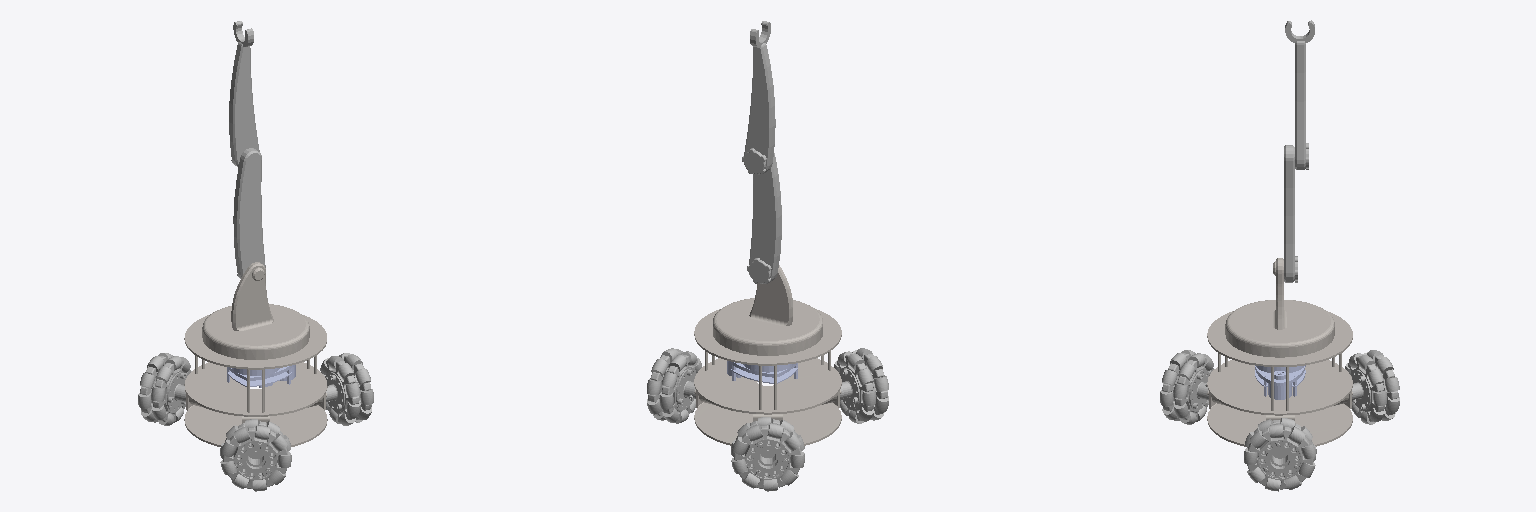
robot.urdf — mo_hinh_robot:
<?xml version="1.0" encoding="utf-8"?>
<!-- This URDF was automatically created by SolidWorks to URDF Exporter! Originally created by [author] ([email redacted]) 
  Commit Version: 1.6.0-1-g15f4949  Build Version: 1.6.7594.29634
  For more information, please see http://wiki.ros.org/sw_urdf_exporter -->
<robot
  name="mo_hinh_robot">
  <link
    name="base_link">
    <inertial>
   <origin
     xyz="-0.000110185966013022 -3.4221336087728E-06 0.0651865978110736"
     rpy="0 0 0" />
   <mass
     value="2.96390581559924" />
   <inertia
     ixx="0.00742546634157697"
     ixy="4.49220991340701E-08"
     ixz="1.3076566436296E-05"
     iyy="0.00743730950356191"
     iyz="8.54733585689313E-07"
     izz="0.0139951764965784" />
    </inertial>
    <visual>
   <origin
     xyz="0 0 0"
     rpy="0 0 0" />
   <geometry>
     <mesh
    filename="package://mo_hinh_robot/meshes/base_link.STL" />
   </geometry>
   <material
     name="">
     <color
    rgba="0.776470588235294 0.756862745098039 0.737254901960784 1" />
   </material>
    </visual>
    <collision>
   <origin
     xyz="0 0 0"
     rpy="0 0 0" />
   <geometry>
     <mesh
    filename="package://mo_hinh_robot/meshes/base_link.STL" />
   </geometry>
    </collision>
  </link>
  <link
    name="lidar_link">
    <inertial>
   <origin
     xyz="0.00676653011666337 -0.000207827566854595 -0.0224318722671681"
     rpy="0 0 0" />
   <mass
     value="1.33076913637071" />
   <inertia
     ixx="0.000614917940454093"
     ixy="-8.01984318980471E-07"
     ixz="0.000158243025911173"
     iyy="0.000960697335617201"
     iyz="-3.09162986587554E-06"
     izz="0.00109815200027134" />
    </inertial>
    <visual>
   <origin
     xyz="0 0 0"
     rpy="0 0 0" />
   <geometry>
     <mesh
    filename="package://mo_hinh_robot/meshes/lidar_link.STL" />
   </geometry>
   <material
     name="">
     <color
    rgba="0.792156862745098 0.819607843137255 0.933333333333333 1" />
   </material>
    </visual>
    <collision>
   <origin
     xyz="0 0 0"
     rpy="0 0 0" />
   <geometry>
     <mesh
    filename="package://mo_hinh_robot/meshes/lidar_link.STL" />
   </geometry>
    </collision>
  </link>
  <joint
    name="lidar_joint"
    type="fixed">
    <origin
   xyz="0 0.000115901455767099 0.110703356935491"
   rpy="0 0 0" />
    <parent
   link="base_link" />
    <child
   link="lidar_link" />
    <axis
   xyz="0 0 0" />
  </joint>
  <link
    name="imu_link">
    <inertial>
   <origin
     xyz="-0.000190068708313807 -0.000282801952511392 0.000656651591240558"
     rpy="0 0 0" />
   <mass
     value="0.000491630657107432" />
   <inertia
     ixx="2.60740156632659E-08"
     ixy="1.20559518329719E-10"
     ixz="1.03040853232581E-10"
     iyy="1.05219690062939E-08"
     iyz="8.68518895699735E-11"
     izz="3.63603146259297E-08" />
    </inertial>
    <visual>
   <origin
     xyz="0 0 0"
     rpy="0 0 0" />
   <geometry>
     <mesh
    filename="package://mo_hinh_robot/meshes/imu_link.STL" />
   </geometry>
   <material
     name="">
     <color
    rgba="0.792156862745098 0.819607843137255 0.933333333333333 1" />
   </material>
    </visual>
    <collision>
   <origin
     xyz="0 0 0"
     rpy="0 0 0" />
   <geometry>
     <mesh
    filename="package://mo_hinh_robot/meshes/imu_link.STL" />
   </geometry>
    </collision>
  </link>
  <joint
    name="imu_joint"
    type="fixed">
    <origin
   xyz="-0.000130860512975111 0 0"
   rpy="0 0 0" />
    <parent
   link="base_link" />
    <child
   link="imu_link" />
    <axis
   xyz="0 0 0" />
  </joint>
  <link
    name="left_wheel">
    <inertial>
   <origin
     xyz="1.26531361333351E-06 -1.8579774514766E-06 -0.0154233151501505"
     rpy="0 0 0" />
   <mass
     value="0.220455124017994" />
   <inertia
     ixx="4.59354203353536E-05"
     ixy="-1.64874741472444E-09"
     ixz="3.11694735802205E-09"
     iyy="4.59367152538397E-05"
     iyz="-4.569390606387E-09"
     izz="8.21417212128144E-05" />
    </inertial>
    <visual>
   <origin
     xyz="0 0 0"
     rpy="0 0 0" />
   <geometry>
     <mesh
    filename="package://mo_hinh_robot/meshes/left_wheel.STL" />
   </geometry>
   <material
     name="">
     <color
    rgba="0.752941176470588 0.752941176470588 0.752941176470588 1" />
   </material>
    </visual>
    <collision>
   <origin
     xyz="0 0 0"
     rpy="0 0 0" />
   <geometry>
     <mesh
    filename="package://mo_hinh_robot/meshes/left_wheel.STL" />
   </geometry>
    </collision>
  </link>
  <joint
    name="left_wheel_joint"
    type="continuous">
    <origin
   xyz="-0.0643580948556634 0.111471490168346 0.0122233569354912"
   rpy="1.5707963267949 0 0.523598775598299" />
    <parent
   link="base_link" />
    <child
   link="left_wheel" />
    <axis
   xyz="0 0 -1" />
    <limit
   effort="10"
   velocity="10" />
    <dynamics
   damping="0.1"
   friction="0.01" />
  </joint>



  
  <link
    name="right_wheel">
    <inertial>
   <origin
     xyz="-4.8564E-07 2.1959E-06 -0.015423"
     rpy="0 0 0" />
   <mass
     value="0.22046" />
   <inertia
     ixx="4.5934E-05"
     ixy="-7.509E-10"
     ixz="-1.2001E-09"
     iyy="4.5938E-05"
     iyz="5.4004E-09"
     izz="8.2142E-05" />
    </inertial>
    <visual>
   <origin
     xyz="0 0 0"
     rpy="0 0 0" />
   <geometry>
     <mesh
    filename="package://mo_hinh_robot/meshes/right_wheel.STL" />
   </geometry>
   <material
     name="">
     <color
    rgba="0.75294 0.75294 0.75294 1" />
   </material>
    </visual>
    <collision>
   <origin
     xyz="0 0 0"
     rpy="0 0 0" />
   <geometry>
     <mesh
    filename="package://mo_hinh_robot/meshes/right_wheel.STL" />
   </geometry>
    </collision>
  </link>
  <joint
    name="right_wheel_joint"
    type="continuous">
    <origin
   xyz="-0.064358094855663 -0.111471490168347 0.0122233569354911"
   rpy="1.5707963267949 0 2.61799387799149" />
    <parent
   link="base_link" />
    <child
   link="right_wheel" />
    <axis
   xyz="0 0 -1" />
    <limit
   effort="10"
   velocity="10" />
    <dynamics
   damping="0.1"
   friction="0.01" />
  </joint>
  <link
    name="front_wheel">
    <inertial>
   <origin
     xyz="2.061E-06 -8.9769E-07 0.015423"
     rpy="0 0 0" />
   <mass
     value="0.22046" />
   <inertia
     ixx="4.5937E-05"
     ixy="-1.2981E-09"
     ixz="-5.07E-09"
     iyy="4.5935E-05"
     iyz="2.2128E-09"
     izz="8.2142E-05" />
    </inertial>
    <visual>
   <origin
     xyz="0 0 0"
     rpy="0 0 0" />
   <geometry>
     <mesh
    filename="package://mo_hinh_robot/meshes/front_wheel.STL" />
   </geometry>
   <material
     name="">
     <color
    rgba="0.75294 0.75294 0.75294 1" />
   </material>
    </visual>
    <collision>
   <origin
     xyz="0 0 0"
     rpy="0 0 0" />
   <geometry>
     <mesh
    filename="package://mo_hinh_robot/meshes/front_wheel.STL" />
   </geometry>
    </collision>
  </link>
  <joint name="front_wheel_joint" type="continuous">
  <origin xyz="0.128716189711327 0 0.0122233569354896" rpy="1.5707963267949 0 1.5707963267949" />
  <parent link="base_link" />
  <child link="front_wheel" />
  <axis xyz="0 0 1" />
  <limit effort="10" velocity="10" />
  <dynamics damping="0.1" friction="0.01" />
</joint>
  <link
    name="arm1">
    <inertial>
   <origin
     xyz="-0.0037454 0.073761 -0.0078148"
     rpy="0 0 0" />
   <mass
     value="0.11467" />
   <inertia
     ixx="0.00036748"
     ixy="5.1856E-06"
     ixz="1.3665E-07"
     iyy="1.6241E-05"
     iyz="-2.9966E-06"
     izz="0.00037856" />
    </inertial>
    <visual>
   <origin
     xyz="0 0 0"
     rpy="0 0 0" />
   <geometry>
     <mesh
    filename="package://mo_hinh_robot/meshes/arm1.STL" />
   </geometry>
   <material
     name="">
     <color
    rgba="0.75294 0.75294 0.75294 1" />
   </material>
    </visual>
    <collision>
   <origin
     xyz="0 0 0"
     rpy="0 0 0" />
   <geometry>
     <mesh
    filename="package://mo_hinh_robot/meshes/arm1.STL" />
   </geometry>
    </collision>
  </link>
  <joint
    name="arm1_joint"
    type="revolute">
    <origin
   xyz="0 0.00500000000000155 0.226003356935507"
   rpy="1.5707963267949 0 0" />
    <parent
   link="base_link" />
    <child
   link="arm1" />
    <axis
   xyz="0 0 1" />
    <limit
   lower="-1.57"
   upper="1.57"
   effort="300"
   velocity="3" />
  </joint>
  <link
    name="arm2">
    <inertial>
   <origin
     xyz="-0.0042896 0.067997 -0.0078922"
     rpy="0 0 0" />
   <mass
     value="0.097049" />
   <inertia
     ixx="0.00032917"
     ixy="8.4112E-06"
     ixz="1.6328E-07"
     iyy="1.1935E-05"
     iyz="-2.5882E-06"
     izz="0.00033478" />
    </inertial>
    <visual>
   <origin
     xyz="0 0 0"
     rpy="0 0 0" />
   <geometry>
     <mesh
    filename="package://mo_hinh_robot/meshes/arm2.STL" />
   </geometry>
   <material
     name="">
     <color
    rgba="0.75294 0.75294 0.75294 1" />
   </material>
    </visual>
    <collision>
   <origin
     xyz="0 0 0"
     rpy="0 0 0" />
   <geometry>
     <mesh
    filename="package://mo_hinh_robot/meshes/arm2.STL" />
   </geometry>
    </collision>
  </link>
  <joint
    name="arm2_joint"
    type="revolute">
    <origin
   xyz="-0.00073149 0.17 -0.015"
   rpy="0 0 0" />
    <parent
   link="arm1" />
    <child
   link="arm2" />
    <axis
   xyz="0 0 1" />
    <limit
   lower="-1.57"
   upper="1.57"
   effort="200"
   velocity="3" />
  </joint>

    <gazebo reference="lidar_link">
   <sensor type="ray" name="lidar_sensor">
     <pose>0 0 0 0 0 0</pose>
     <visualize>true</visualize>
     <update_rate>30</update_rate>
     <ray>
    <scan>
      <horizontal>
        <samples>720</samples>
        <resolution>1</resolution>
        <min_angle>-1.5708</min_angle>
        <max_angle>1.5708</max_angle>
      </horizontal>
    </scan>
    <range>
      <min>0.1</min>
      <max>30.0</max>
      <resolution>0.01</resolution>
    </range>
    <noise>
      <type>gaussian</type>
      <mean>0.0</mean>
      <stddev>0.01</stddev>
    </noise>
     </ray>
     <plugin name="gazebo_ros_laser" filename="libgazebo_ros_laser.so">
    <topicName>/scan</topicName>
    <frameName>lidar_link</frameName>
     </plugin>
   </sensor>
    </gazebo>

  <!-- Vật liệu (tùy chọn, nếu muốn) -->
  <gazebo reference="base_link">
    <material>Gazebo/Black</material>
  </gazebo>
  <gazebo reference="left_wheel">
    <material>Gazebo/Blue</material>
  </gazebo>
  <gazebo reference="right_wheel">
    <material>Gazebo/Green</material>
  </gazebo>
  <gazebo reference="front_wheel">
    <material>Gazebo/Red</material>
  </gazebo>


<gazebo reference="imu_link">
  <sensor name="imu_sensor" type="imu">
    <always_on>true</always_on>
    <update_rate>100</update_rate>
    <visualize>true</visualize> <!-- Bật hiển thị mũi tên -->
    <plugin filename="libgazebo_ros_imu_sensor.so" name="imu_plugin">
      <topicName>/imu</topicName>
      <bodyName>imu_link</bodyName>
      <frameName>imu_link</frameName>
      <gaussianNoise>0.01</gaussianNoise>
      <xyzOffset>0 0 0</xyzOffset>
      <rpyOffset>0 0 0</rpyOffset> <!-- Không offset góc dữ liệu -->
      <initialOrientationAsReference>false</initialOrientationAsReference>
    </plugin>
    <pose>0 0 0 0 1.5708 0</pose> <!-- Xoay 90 độ quanh trục Y để mũi tên hướng theo X -->
  </sensor>
</gazebo>


<transmission name="arm1_trans">
<type>transmission_interface/SimpleTransmission</type>
<joint name="arm1_joint">
<hardwareInterface>hardware_interface/PositionJointInterface</hardwareInterface>
</joint>
<actuator name="arm1_motor">
<!-- <hardwareInterface>hardware_interface/PositionJointInterface</hardwareInterface> -->
<mechanicalReduction>1</mechanicalReduction>
</actuator>
</transmission>

<transmission name="arm2_trans">
<type>transmission_interface/SimpleTransmission</type>
<joint name="arm2_joint">
<hardwareInterface>hardware_interface/PositionJointInterface</hardwareInterface>
</joint>
<actuator name="arm2_motor">
<!-- <hardwareInterface>hardware_interface/PositionJointInterface</hardwareInterface> -->
<mechanicalReduction>1</mechanicalReduction>
</actuator>
</transmission>

  <gazebo>
    <plugin name ="gazebo_ros_control" filename = "libgazebo_ros_control.so">
        <robotNamespace>/</robotNamespace>
    </plugin>
  </gazebo>

<!-- Transmission cho bánh xe -->
  <transmission name="left_wheel_trans">
    <type>transmission_interface/SimpleTransmission</type>
    <joint name="left_wheel_joint">
      <hardwareInterface>hardware_interface/VelocityJointInterface</hardwareInterface>
    </joint>
    <actuator name="left_wheel_motor">
      <mechanicalReduction>1</mechanicalReduction>
    </actuator>
  </transmission>

  <transmission name="right_wheel_trans">
    <type>transmission_interface/SimpleTransmission</type>
    <joint name="right_wheel_joint">
      <hardwareInterface>hardware_interface/VelocityJointInterface</hardwareInterface>
    </joint>
    <actuator name="right_wheel_motor">
      <mechanicalReduction>1</mechanicalReduction>
    </actuator>
  </transmission>

  <transmission name="front_wheel_trans">
    <type>transmission_interface/SimpleTransmission</type>
    <joint name="front_wheel_joint">
      <hardwareInterface>hardware_interface/VelocityJointInterface</hardwareInterface>
    </joint>
    <actuator name="front_wheel_motor">
      <mechanicalReduction>1</mechanicalReduction>
    </actuator>
  </transmission>

<!-- Gazebo cho left_wheel_joint -->
<gazebo reference="left_wheel_joint">
  <provideFeedback>true</provideFeedback>
  <kp>100.0</kp>
  <ki>0.1</ki>
  <kd>10.0</kd>
</gazebo>

<!-- Gazebo cho right_wheel_joint -->
<gazebo reference="right_wheel_joint">
  <provideFeedback>true</provideFeedback>
  <kp>100.0</kp>
  <ki>0.1</ki>
  <kd>10.0</kd>
</gazebo>

<!-- Gazebo cho front_wheel_joint -->
<gazebo reference="front_wheel_joint">
  <provideFeedback>true</provideFeedback>
  <kp>100.0</kp>
  <ki>0.1</ki>
  <kd>10.0</kd>
</gazebo>
</robot>

--- What the picture shows (computed from the rendered views, not written in the file) ---
3 views of the same robot in one strip: view 1: azimuth 30°, elevation 25°; view 2: azimuth 150°, elevation 25°; view 3: azimuth 270°, elevation 25° (orthographic).
Model mo_hinh_robot with 8 links and 7 joints (2 revolute, 3 continuous, 2 fixed), rooted at base_link, posed all joints at 0.
Links seen in each view (by area): view 1: base_link, right_wheel, arm1, front_wheel, left_wheel, arm2, lidar_link; view 2: base_link, left_wheel, arm2, arm1, front_wheel, right_wheel, lidar_link; view 3: base_link, front_wheel, right_wheel, left_wheel, arm2, arm1, lidar_link.
Link boxes in pixels (x1,y1,x2,y2): base_link: (184, 262, 327, 446); right_wheel: (220, 419, 291, 491); arm1: (233, 148, 265, 278); front_wheel: (320, 353, 373, 425); left_wheel: (138, 353, 191, 425); arm2: (229, 21, 259, 167); lidar_link: (227, 365, 295, 387); base_link: (694, 265, 841, 445); left_wheel: (731, 417, 804, 491); arm2: (742, 21, 775, 174); arm1: (747, 153, 781, 283); front_wheel: (647, 348, 701, 423); right_wheel: (834, 348, 888, 423); lidar_link: (727, 361, 797, 383); base_link: (1207, 258, 1352, 446); front_wheel: (1244, 418, 1316, 491); right_wheel: (1160, 350, 1213, 424); left_wheel: (1345, 350, 1399, 424); arm2: (1285, 20, 1314, 169); arm1: (1284, 145, 1297, 282); lidar_link: (1255, 365, 1305, 399).
Bounding box of the posed robot: 0.2884 × 0.3297 × 0.635 m (x, y, z).
Meshes: 8 distinct files referenced, 8 mesh visuals loaded (8 binary STL).
